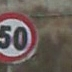limite 50: (1, 8, 40, 66)
